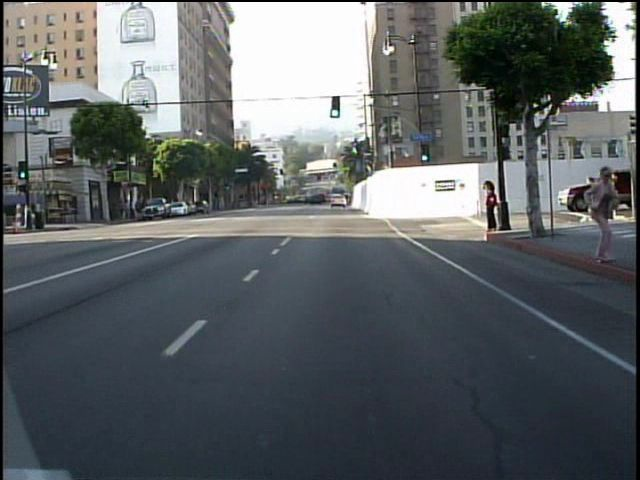person: (480, 179, 501, 236)
